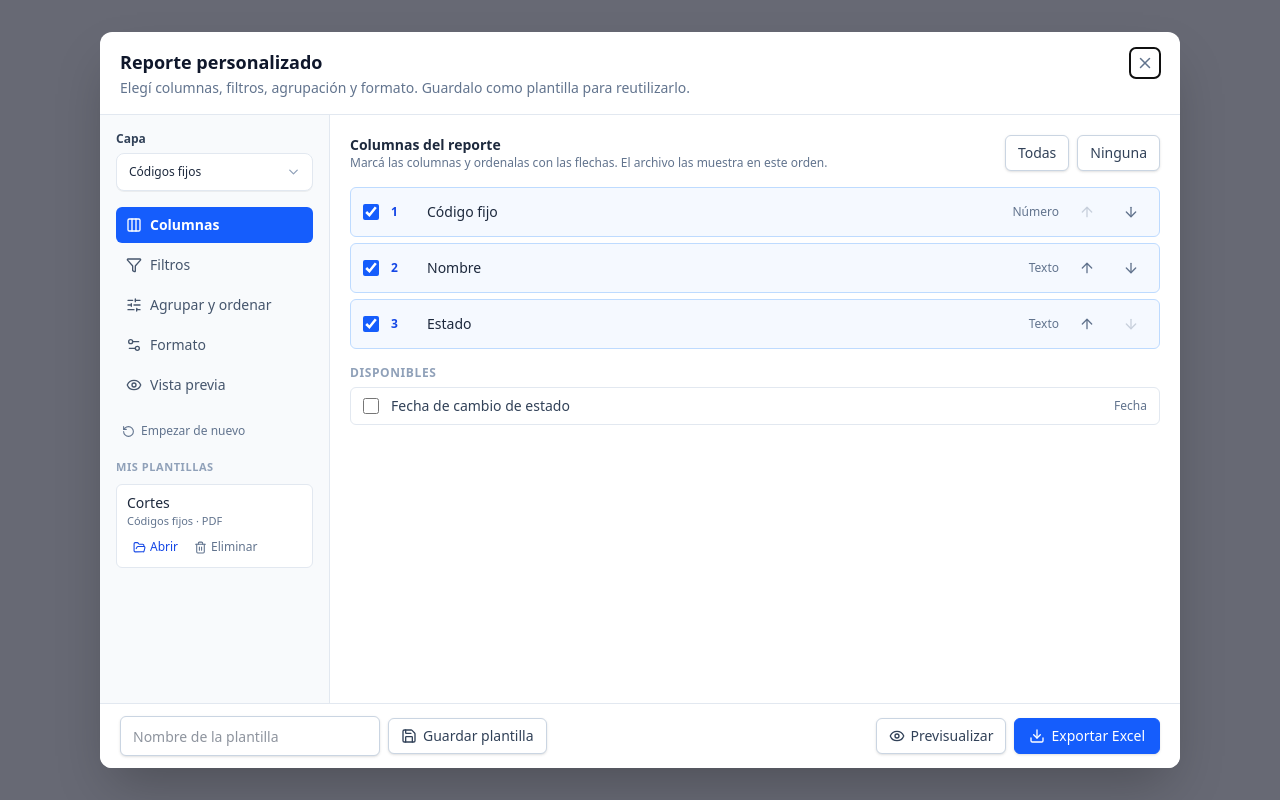
Test case: ReportBuilderDialog › starts from the query screen state
Expected: the list named "Columnas seleccionadas" is shown, [350,187,1160,349]
Click the button "Previsualizar": click(941, 736) [876,718,1006,754]
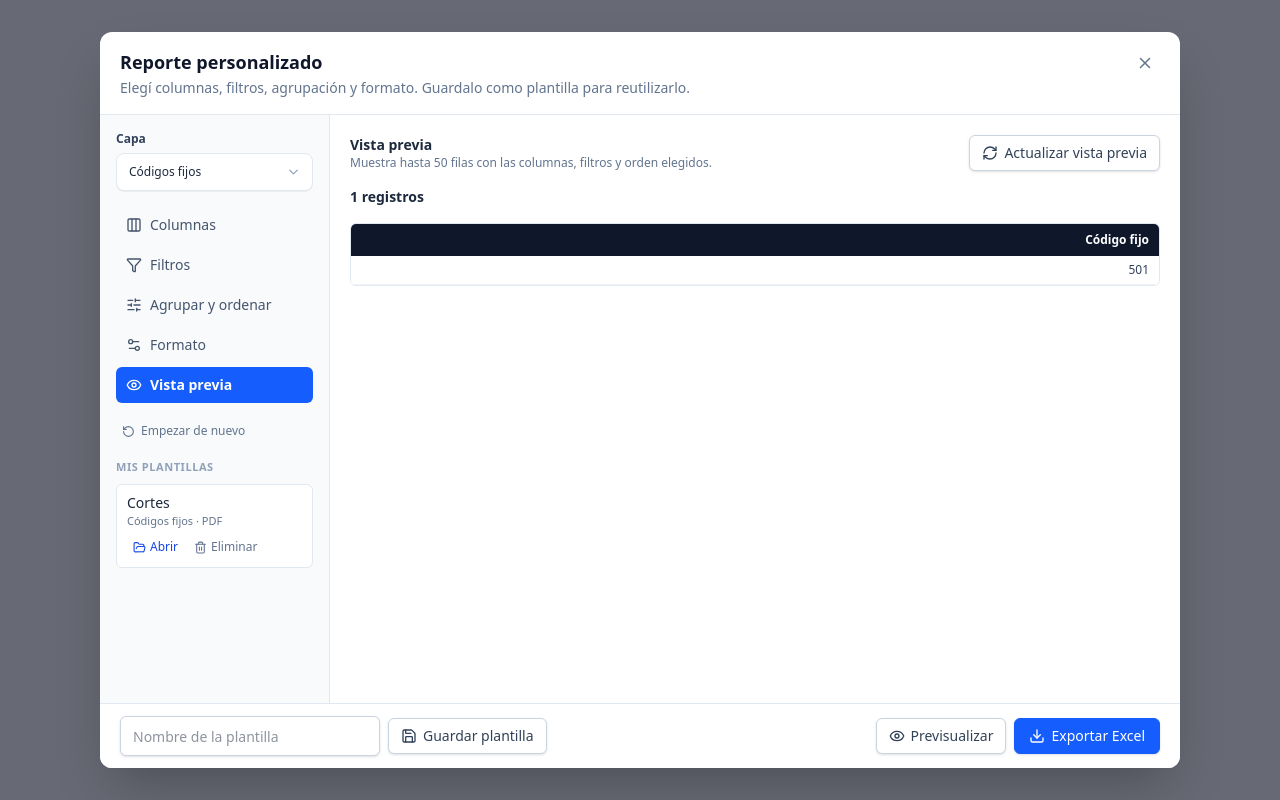
Expected: the text "1 registros" is shown, [350,187,424,207]
